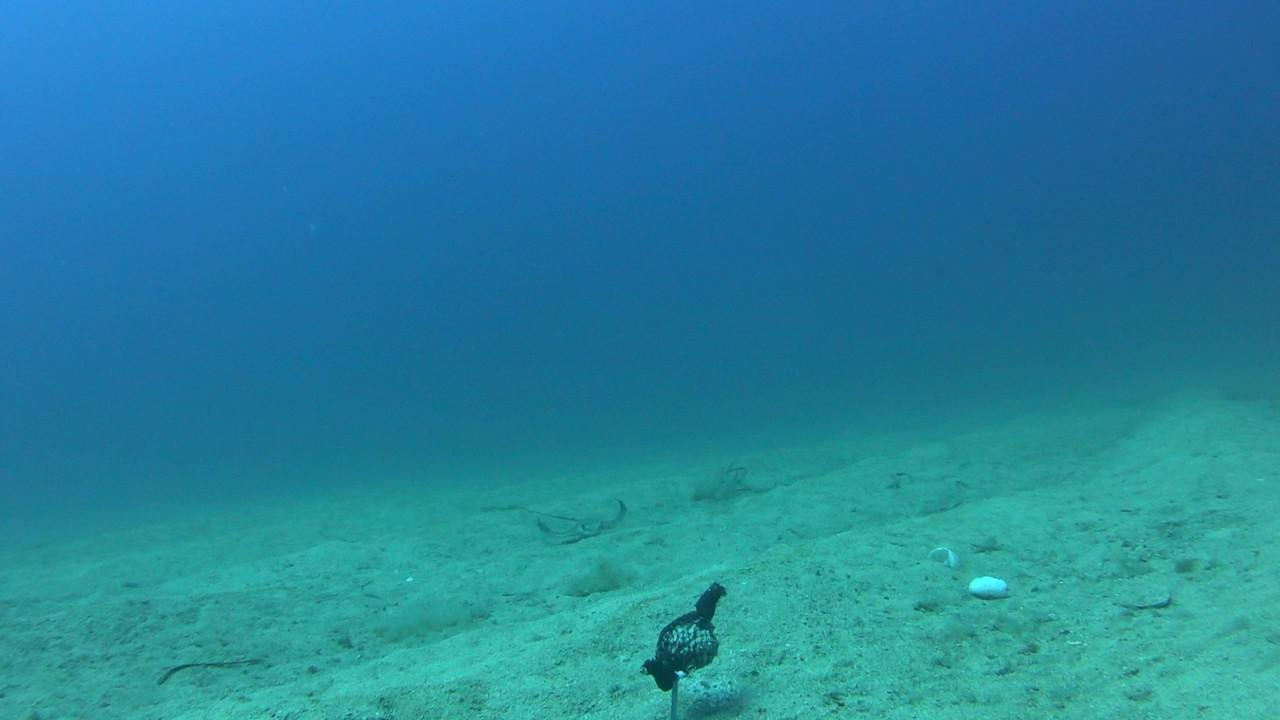myliobatis: (505, 487, 652, 556)
